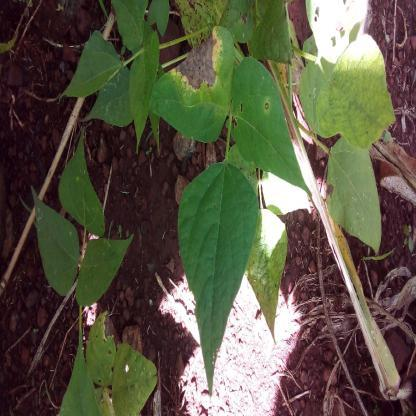Beans_Angular_LeafSpot: (230, 59, 310, 199), (140, 29, 236, 141), (86, 309, 158, 416), (249, 203, 287, 337), (307, 0, 369, 68)
